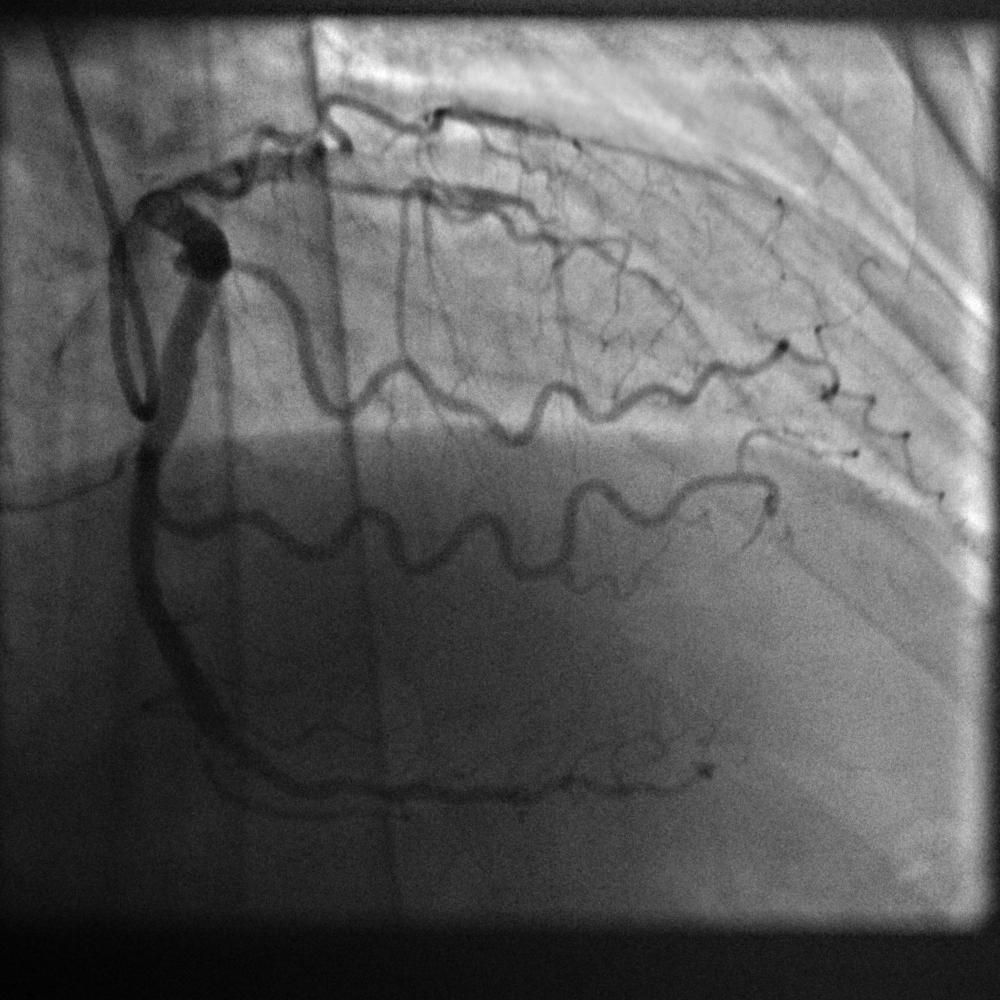Stenosis: (199, 705, 265, 771)
